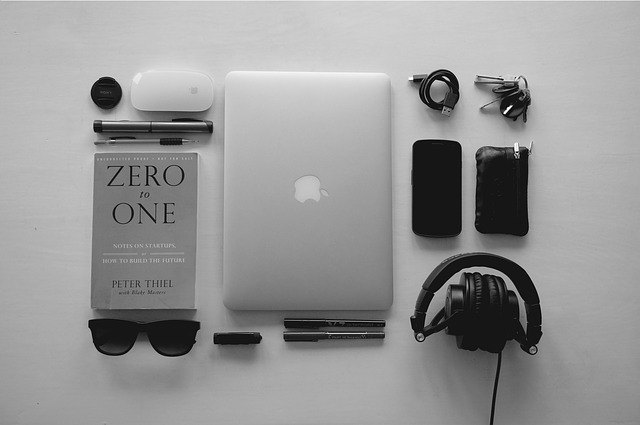headphones: (410, 252, 545, 355)
